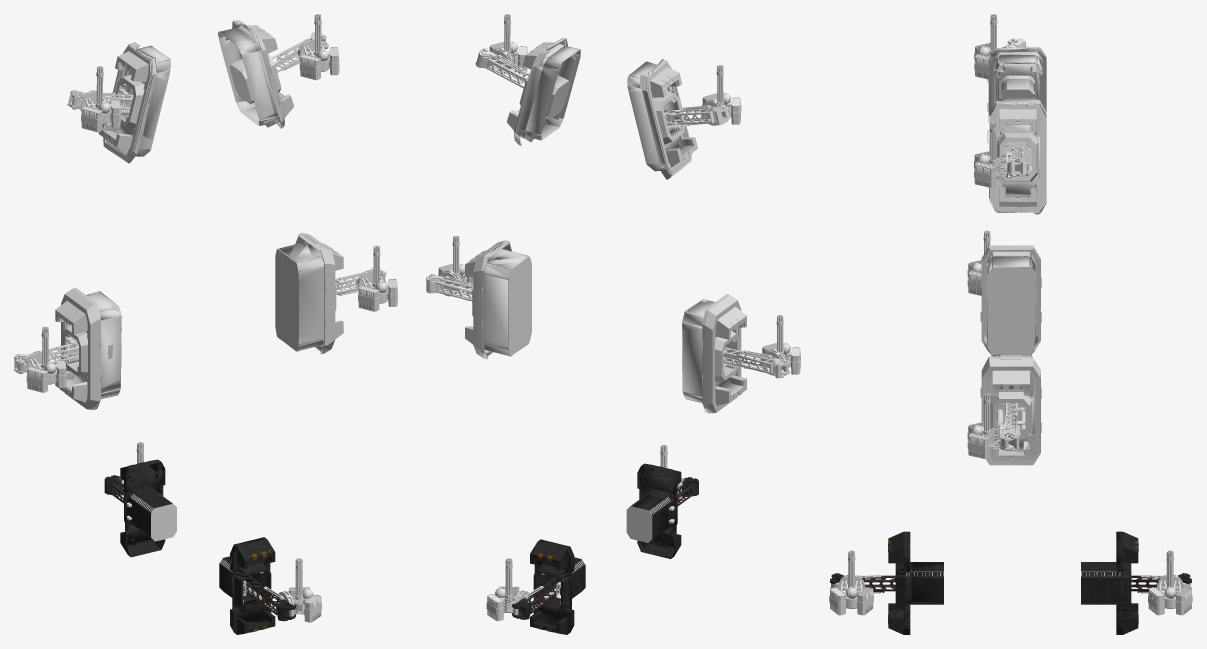
The model's file is PDC_Parts.fbx.
3 renders of one model, left to right at view 1: azimuth 30°, elevation 25°; view 2: azimuth 150°, elevation 25°; view 3: azimuth 270°, elevation 25°, orthographic. The views are drawn at different scales.
Visible parts, largest first — view 1: PDC_Mid_Stbd_Nest_01, PDC_Mid_Port_Housing_01, PDC_Fore_Stbd_Nest_01, PDC_Mid_Stbd_Housing_01, PDC_Fore_Stbd_Housing_01, PDC_Aft_Ventral_Nest_03, PDC_Fore_Port_Housing_02, PDC_Aft_Dorsal_Nest_01, PDC_Aft_Dorsal_Nest_03, PDC_Mid_Port_Body_01, PDC_Fore_Stbd_Body_01, PDC_Fore_Port_Body_01 (+12 smaller); view 2: PDC_Mid_Stbd_Nest_01, PDC_Mid_Port_Housing_01, PDC_Fore_Stbd_Nest_01, PDC_Mid_Stbd_Housing_01, PDC_Aft_Dorsal_Nest_04, PDC_Aft_Ventral_Nest_04, PDC_Aft_Ventral_Nest_01, PDC_Fore_Port_Nest_02, PDC_Aft_Dorsal_Nest_01, PDC_Mid_Port_Nest_03, PDC_Aft_Ventral_Nest_02, PDC_Fore_Stbd_Housing_07 (+14 smaller); view 3: PDC_Mid_Stbd_Housing_01, PDC_Mid_Port_Nest_03, PDC_Mid_Port_Housing_01, PDC_Fore_Port_Nest_02, PDC_Mid_Port_Nest_01, PDC_Aft_Dorsal_Body_01, PDC_Aft_Ventral_Body_01, PDC_Aft_Ventral_Nest_04, PDC_Mid_Port_Nest_02, PDC_Fore_Stbd_Housing_07, PDC_Fore_Stbd_Housing_05, PDC_Fore_Stbd_Housing_01 (+16 smaller).
Boxes of the visible parts, x1=… form: PDC_Mid_Stbd_Nest_01: x1=275, y1=241, x2=323, y2=351; PDC_Mid_Port_Housing_01: x1=55, y1=287, x2=100, y2=409; PDC_Fore_Stbd_Nest_01: x1=218, y1=28, x2=275, y2=127; PDC_Mid_Stbd_Housing_01: x1=295, y1=232, x2=343, y2=354; PDC_Fore_Stbd_Housing_01: x1=251, y1=33, x2=294, y2=128; PDC_Aft_Ventral_Nest_03: x1=140, y1=496, x2=176, y2=541; PDC_Fore_Port_Housing_02: x1=126, y1=55, x2=158, y2=132; PDC_Aft_Dorsal_Nest_01: x1=230, y1=537, x2=275, y2=574; PDC_Aft_Dorsal_Nest_03: x1=231, y1=563, x2=271, y2=610; PDC_Mid_Port_Body_01: x1=26, y1=352, x2=66, y2=392; PDC_Fore_Stbd_Body_01: x1=299, y1=39, x2=339, y2=80; PDC_Fore_Port_Body_01: x1=81, y1=92, x2=120, y2=132; PDC_Mid_Stbd_Nest_01: x1=484, y1=249, x2=531, y2=356; PDC_Mid_Port_Housing_01: x1=702, y1=294, x2=746, y2=413; PDC_Fore_Stbd_Nest_01: x1=525, y1=45, x2=580, y2=141; PDC_Mid_Stbd_Housing_01: x1=465, y1=240, x2=512, y2=359; PDC_Aft_Dorsal_Nest_04: x1=626, y1=497, x2=663, y2=542; PDC_Aft_Ventral_Nest_04: x1=533, y1=565, x2=575, y2=610; PDC_Aft_Ventral_Nest_01: x1=530, y1=539, x2=574, y2=575; PDC_Fore_Port_Nest_02: x1=627, y1=61, x2=670, y2=137; PDC_Aft_Dorsal_Nest_01: x1=637, y1=463, x2=681, y2=497; PDC_Mid_Port_Nest_03: x1=682, y1=299, x2=715, y2=350; PDC_Aft_Ventral_Nest_02: x1=530, y1=603, x2=574, y2=634; PDC_Fore_Stbd_Housing_07: x1=518, y1=50, x2=549, y2=117; PDC_Mid_Stbd_Housing_01: x1=980, y1=355, x2=1041, y2=465; PDC_Mid_Port_Nest_03: x1=986, y1=256, x2=1035, y2=300; PDC_Mid_Port_Housing_01: x1=980, y1=245, x2=1041, y2=352; PDC_Fore_Port_Nest_02: x1=994, y1=55, x2=1042, y2=104; PDC_Mid_Port_Nest_01: x1=987, y1=324, x2=1035, y2=355; PDC_Aft_Dorsal_Body_01: x1=829, y1=576, x2=873, y2=615; PDC_Aft_Ventral_Body_01: x1=1148, y1=576, x2=1192, y2=615; PDC_Aft_Ventral_Nest_04: x1=1102, y1=562, x2=1132, y2=610; PDC_Mid_Port_Nest_02: x1=987, y1=301, x2=1035, y2=324; PDC_Fore_Stbd_Housing_07: x1=1032, y1=100, x2=1046, y2=178; PDC_Fore_Stbd_Housing_05: x1=1004, y1=100, x2=1031, y2=141; PDC_Fore_Stbd_Housing_01: x1=987, y1=100, x2=1003, y2=212.
Bounding box in the file's own units: 54.68 × 78.66 × 46.31.
